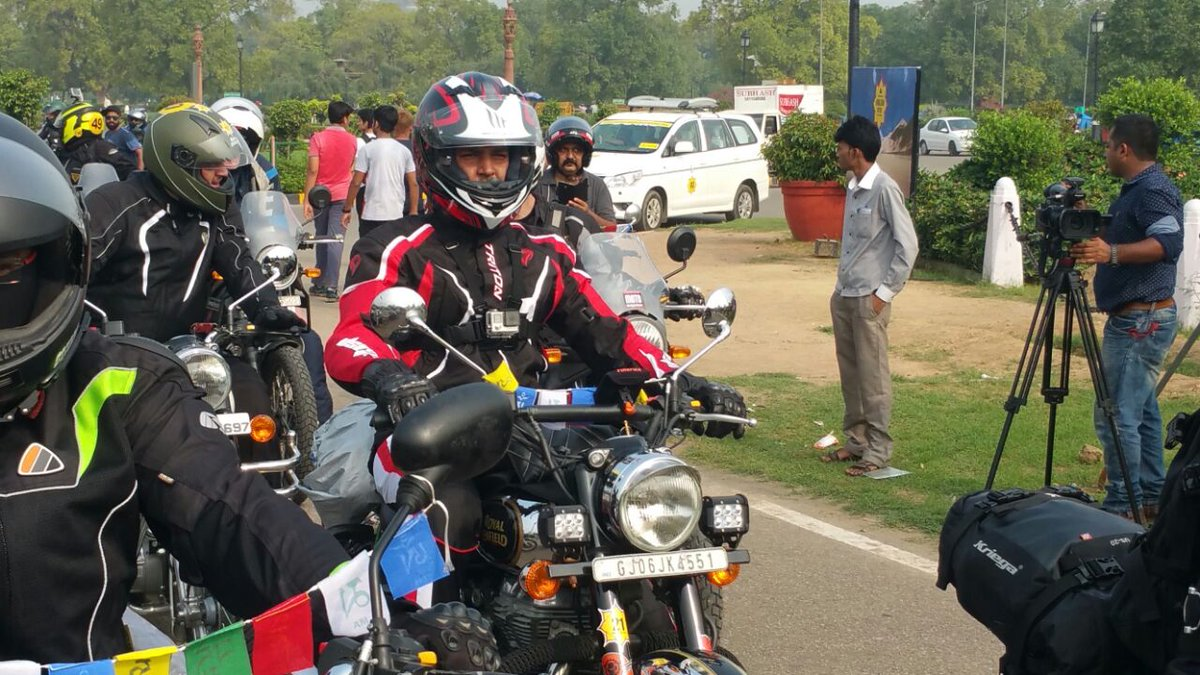helmet: (413, 68, 546, 234), (155, 107, 245, 216), (551, 117, 596, 155)
